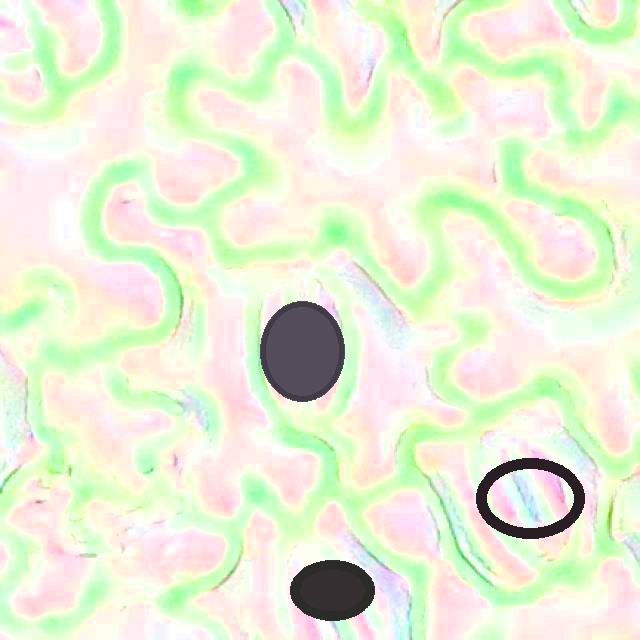open: (476, 457, 584, 539), (260, 301, 345, 401), (291, 560, 374, 621)
